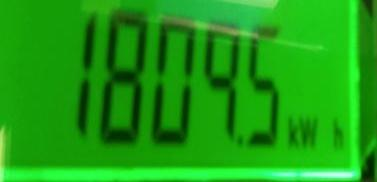.: (287, 115, 344, 151)
0: (236, 136, 244, 148)
1: (150, 19, 198, 147)
2: (72, 12, 98, 137)
6: (247, 23, 286, 151)
9: (98, 10, 151, 149)
:: (201, 24, 242, 137)
